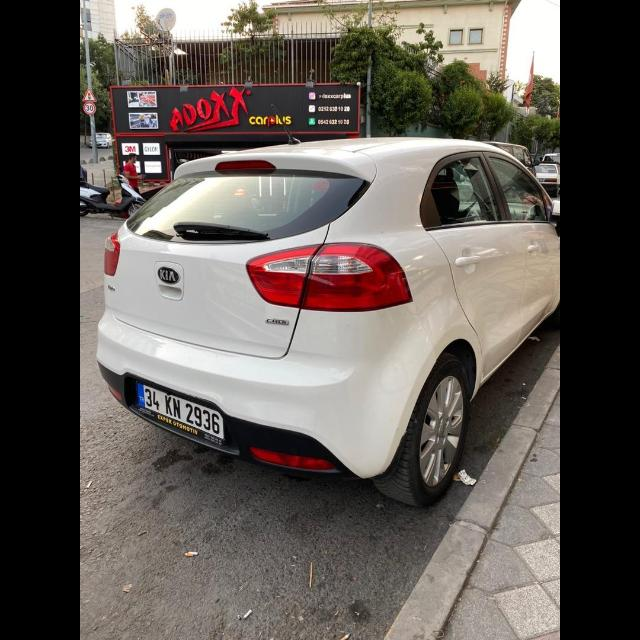Plaka: (137, 380, 225, 438)
